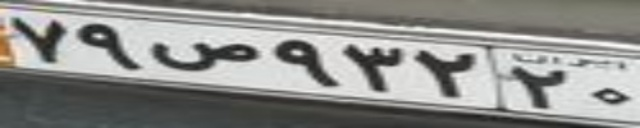0: (590, 86, 630, 105)
2: (412, 48, 478, 98), (507, 64, 567, 108)
3: (342, 44, 405, 93)
7: (9, 17, 68, 63)
9: (73, 22, 138, 71), (272, 38, 335, 88)
saat: (146, 39, 257, 73)
